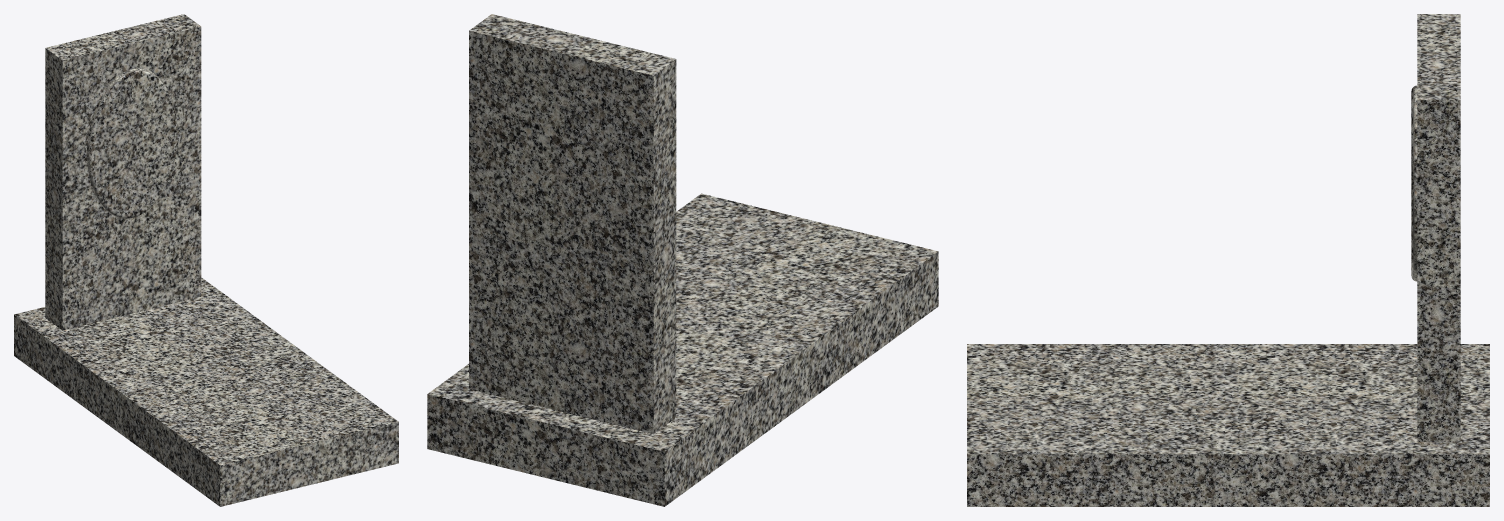
Rendered from bender.glb.
3 renders of one model, left to right at view 1: azimuth 30°, elevation 25°; view 2: azimuth 150°, elevation 25°; view 3: azimuth 270°, elevation 25°, orthographic. The views are drawn at different scales.
Parts seen in each view (by area): view 1: Деталь1; view 2: Деталь1; view 3: Деталь1.
Boxes of the visible parts, x1=… form: Деталь1: x1=14, y1=14, x2=398, y2=506; Деталь1: x1=427, y1=14, x2=938, y2=506; Деталь1: x1=967, y1=14, x2=1489, y2=506.
Size of the model in its own units: 0.9001 by 1.5 by 1.8.
1 material, 1 textured.
